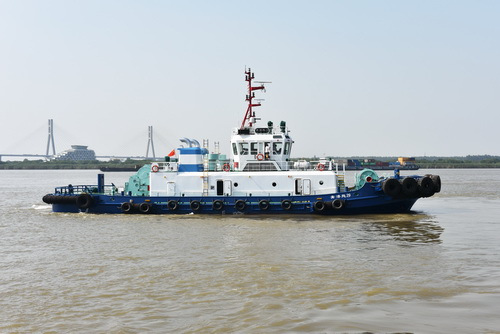otherboat: (44, 67, 455, 218)
